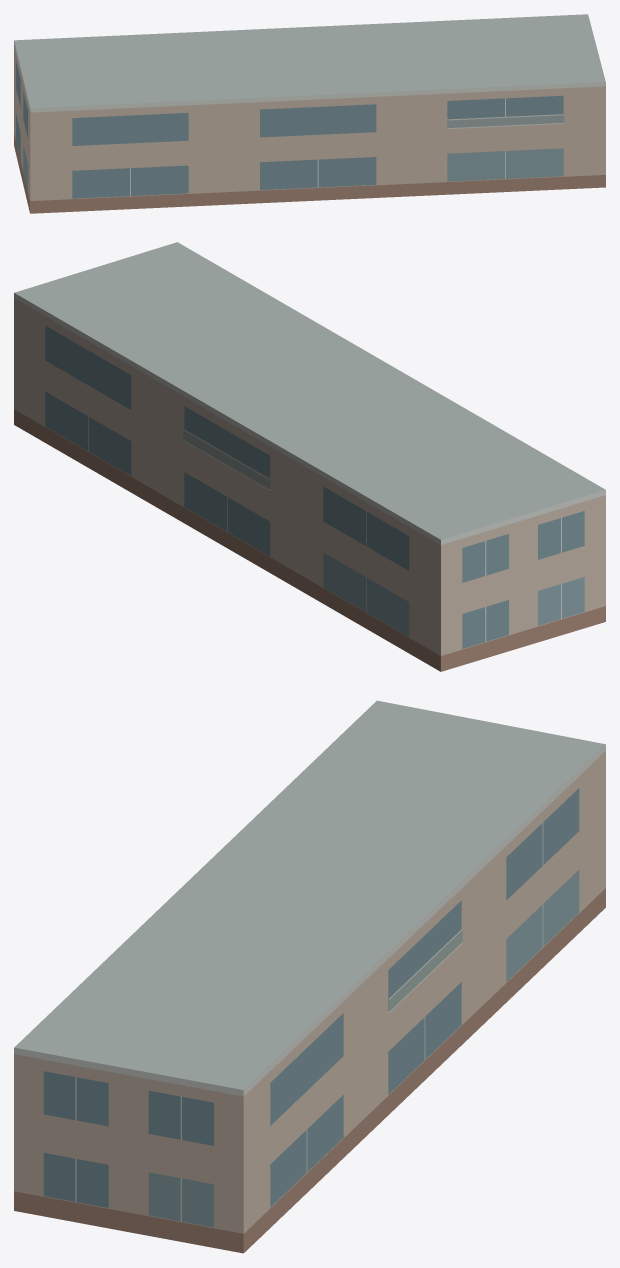
Rendered from survey-upis-32527740.glb.
3 renders of one model, top to bottom at view 1: azimuth 30°, elevation 25°; view 2: azimuth 150°, elevation 25°; view 3: azimuth 270°, elevation 25°, orthographic. The views are drawn at different scales.
Parts seen in each view (by area): view 1: survey-upis-32527740.tmp; view 2: survey-upis-32527740.tmp; view 3: survey-upis-32527740.tmp.
Boxes of the visible parts, bbox=[...] form: survey-upis-32527740.tmp: bbox=[14, 14, 605, 213]; survey-upis-32527740.tmp: bbox=[14, 242, 605, 671]; survey-upis-32527740.tmp: bbox=[14, 700, 605, 1253].
Size of the model in its own units: 31.23 by 6.1 by 20.05.
